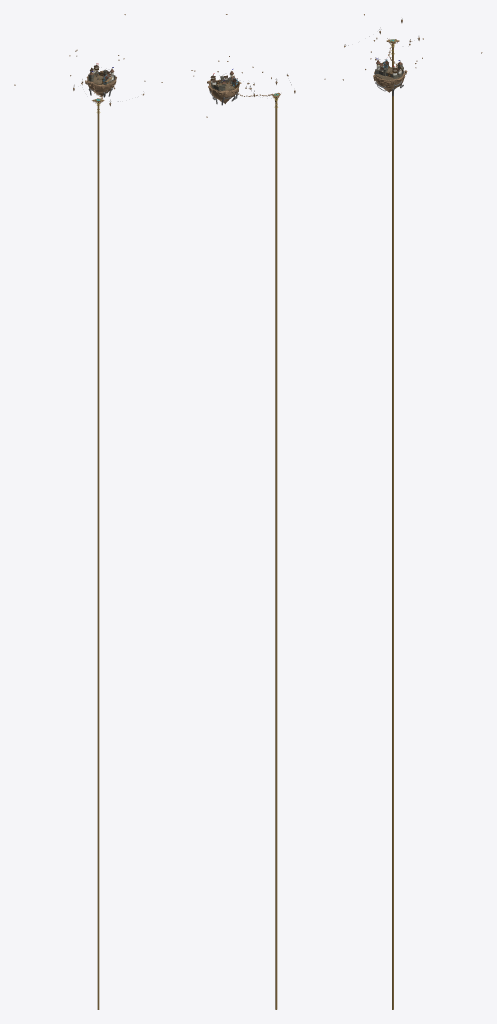
Rendered from остров старт.fbx.
The picture shows the model from 3 angles, left to right: view 1: azimuth 90°, elevation 25°; view 2: azimuth 150°, elevation 25°; view 3: azimuth 270°, elevation 25°; orthographic projection. The views are drawn at different scales.
Visible parts, largest first — view 1: Цилиндр.079; view 2: Цилиндр.079, Куб; view 3: Цилиндр.079.
Part boxes in pixels (bbox=[...]): Цилиндр.079: bbox=[97, 102, 99, 1009]; Цилиндр.079: bbox=[275, 97, 277, 1009]; Куб: bbox=[207, 79, 239, 103]; Цилиндр.079: bbox=[391, 42, 393, 1009].
Size of the model in its own units: 1002 by 10616 by 1482.
Materials: 68 (32 with a texture image).
